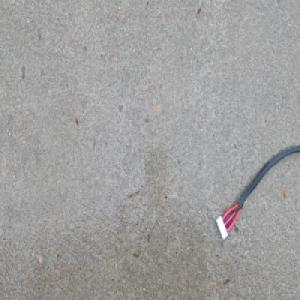Wire: (214, 142, 299, 241)
